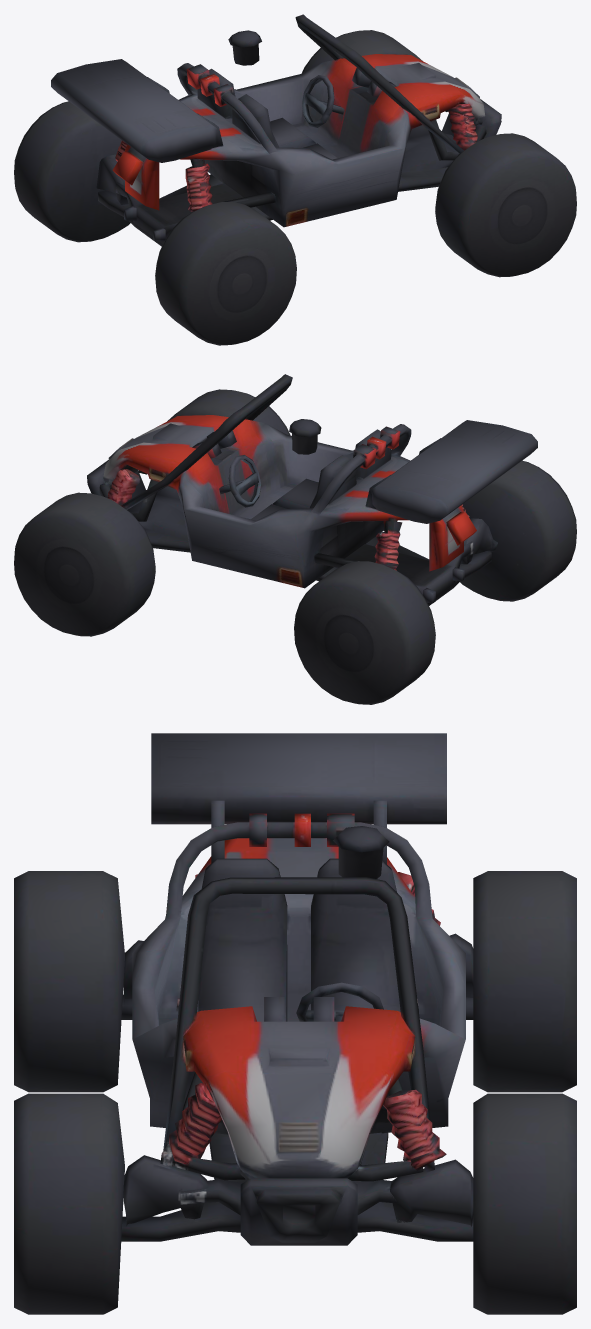
Rendered from 20260601_222947_A_compact_stylized_off-road_.fbx.
The picture shows the model from 3 angles, top to bottom: view 1: azimuth 30°, elevation 25°; view 2: azimuth 150°, elevation 25°; view 3: azimuth 270°, elevation 25°; orthographic projection. The views are drawn at different scales.
Parts seen in each view (by area): view 1: tripo_node_c23e1c3f; view 2: tripo_node_c23e1c3f; view 3: tripo_node_c23e1c3f.
Boxes of the visible parts, <box> form: tripo_node_c23e1c3f: <box>14,14,576,345</box>; tripo_node_c23e1c3f: <box>14,374,576,704</box>; tripo_node_c23e1c3f: <box>14,733,576,1314</box>.
Bounding box in the file's own units: 0.998 × 0.502 × 0.752.
1 material, 1 textured.
